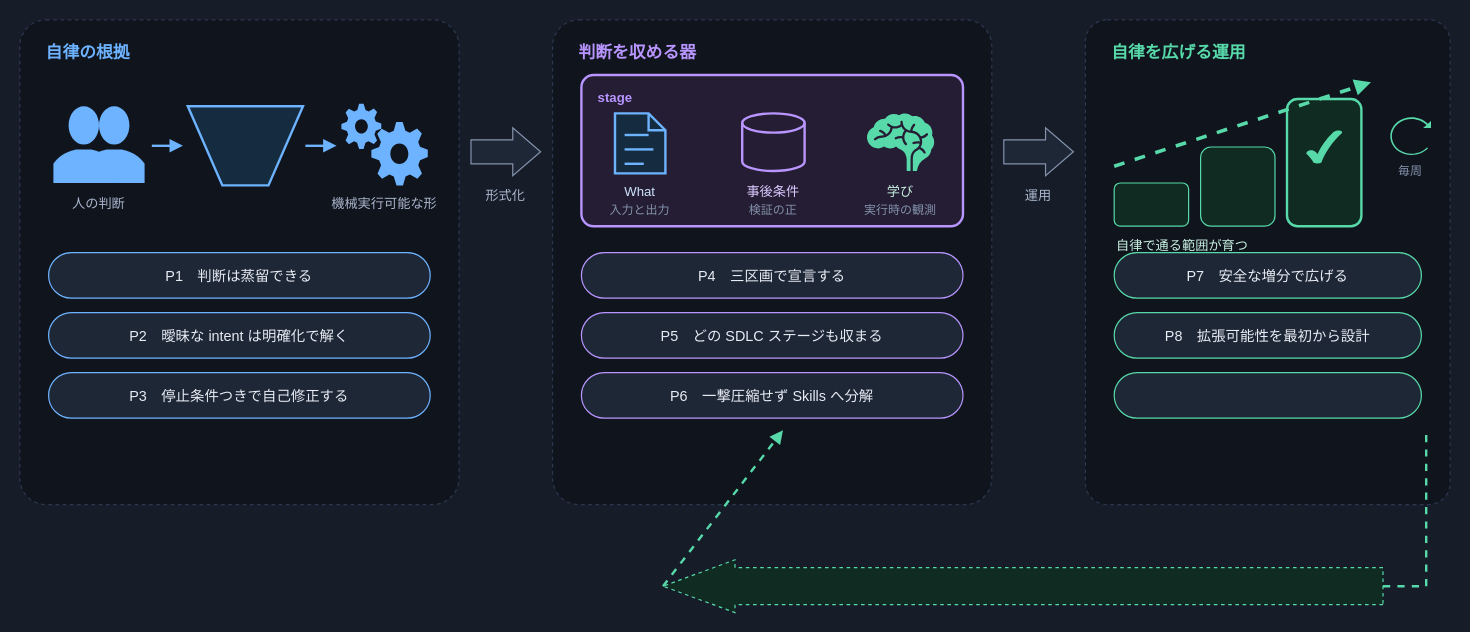
Image size: 1470x632. Some labels were removed from this diagram. The shapes that lost their labels are listed below. From the top down, each one's centre as x and y in pixels, then its label:
point 245,145: 蒸留
point 1267,394: P9 実践の学びをルールへ昇格
point 1022,586: 実践の学び（P9）が事後条件を太らせ、安全な増分（P7）を押し広げる
